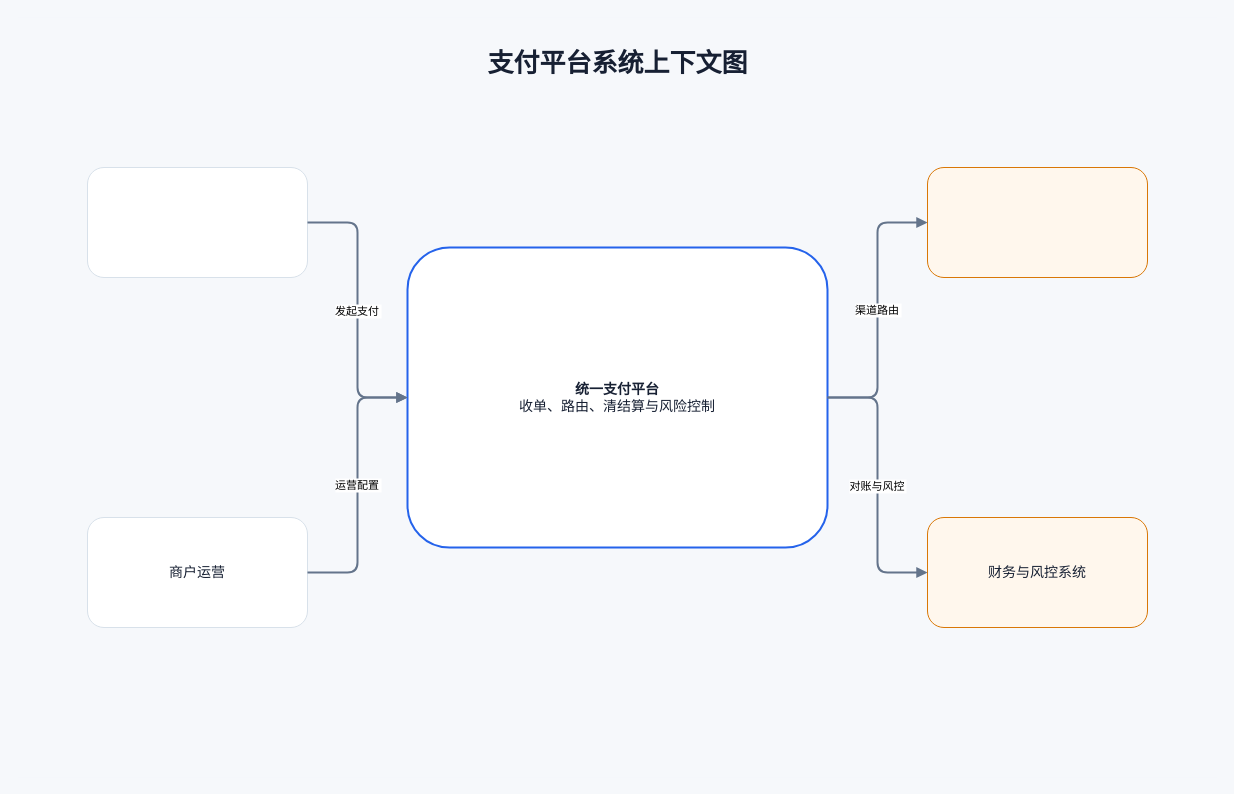
Image size: 1234x794. Some labels were removed from this diagram. Here are the shapes that lost their labels. From the top down, the centre of each, then its label:
At pixel 197 222: "消费者".
At pixel 1037 222: "银行与支付渠道".
